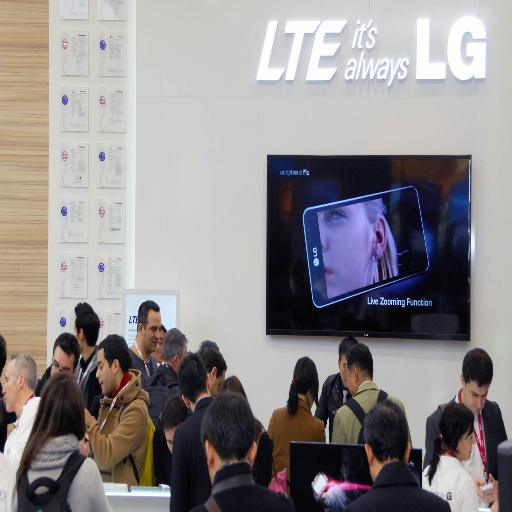hand: (473, 479, 485, 502)
